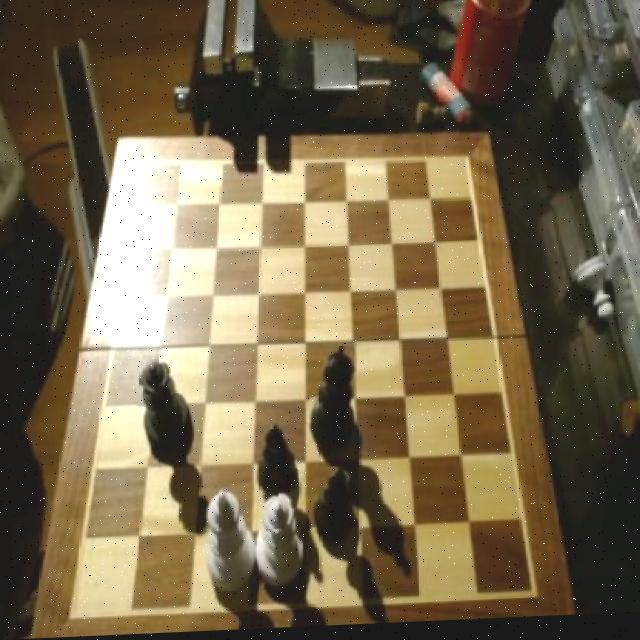bishop: (255, 427, 297, 505), (311, 468, 352, 545)
black-bishop: (308, 346, 357, 459)
black-pawn: (136, 359, 191, 458)
white-bishop: (201, 487, 254, 598)
white-pawn: (253, 496, 302, 589)
